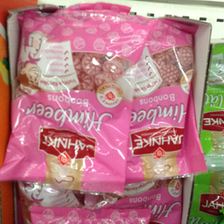candy: (11, 11, 146, 195), (118, 19, 208, 179)
